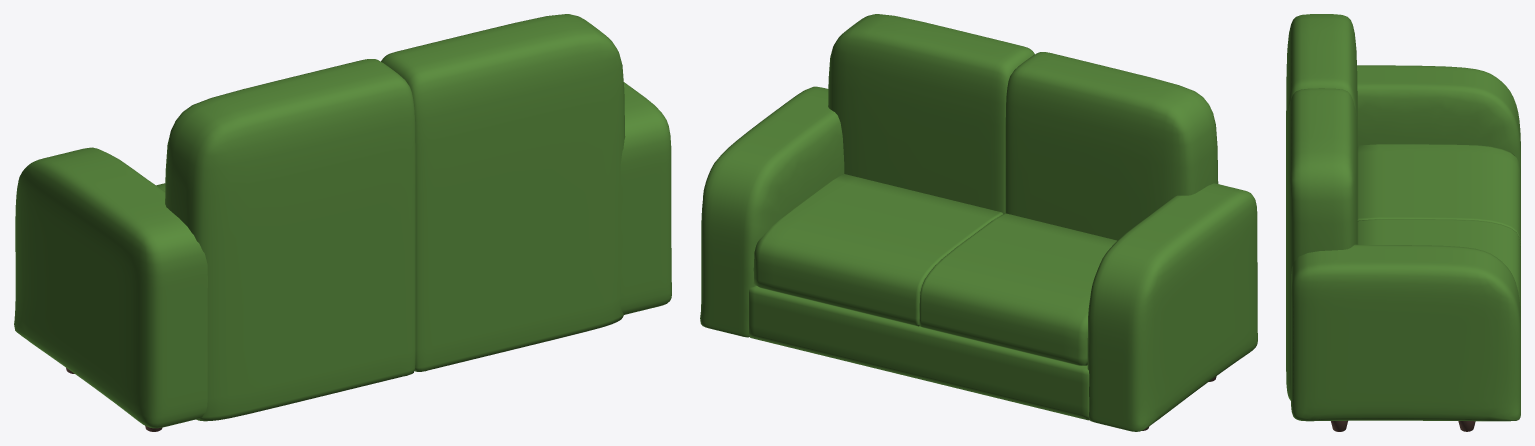
File: Sofa.fbx
The picture shows the model from 3 angles, left to right: view 1: azimuth 30°, elevation 25°; view 2: azimuth 150°, elevation 25°; view 3: azimuth 270°, elevation 25°; orthographic projection. The views are drawn at different scales.
Parts seen in each view (by area): view 1: Cube.004; view 2: Cube.004; view 3: Cube.004.
Boxes of the visible parts, <box> form: Cube.004: <box>14,14,671,431</box>; Cube.004: <box>700,14,1257,431</box>; Cube.004: <box>1286,14,1520,431</box>.
Bounding box in the file's own units: 280 × 160 × 133.
